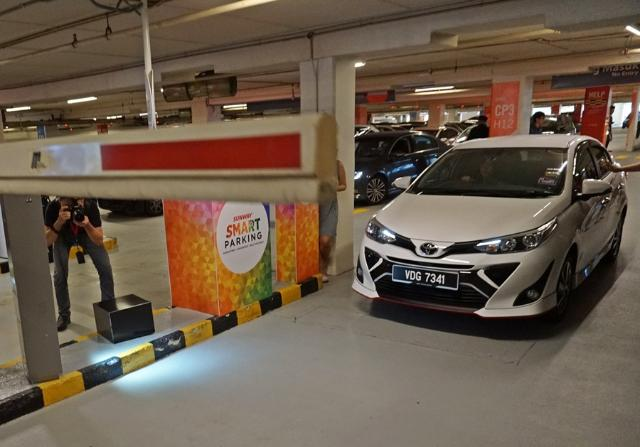License_Plate: (391, 264, 460, 293)
car: (356, 131, 635, 328)
